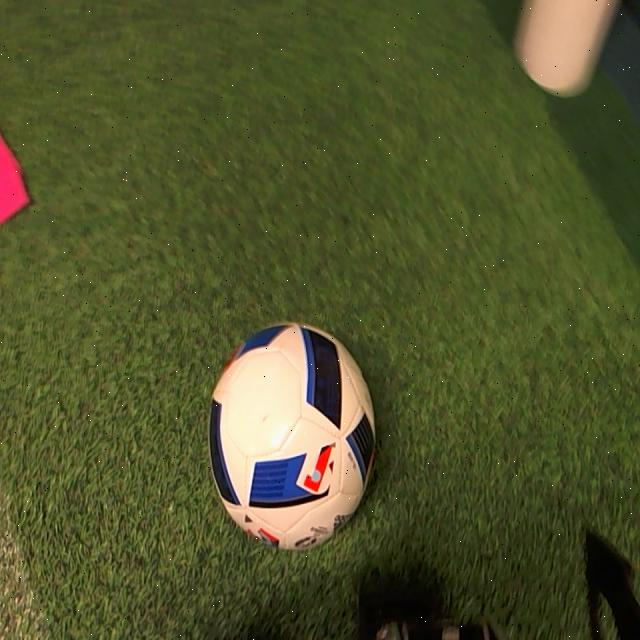ball: (209, 320, 379, 553)
goalpost: (514, 0, 609, 98)
